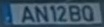1: (48, 4, 57, 22)
2: (55, 4, 68, 22)
A: (20, 4, 36, 22)
B: (67, 4, 81, 21)
N: (33, 4, 49, 23)
Q: (80, 4, 94, 22)
